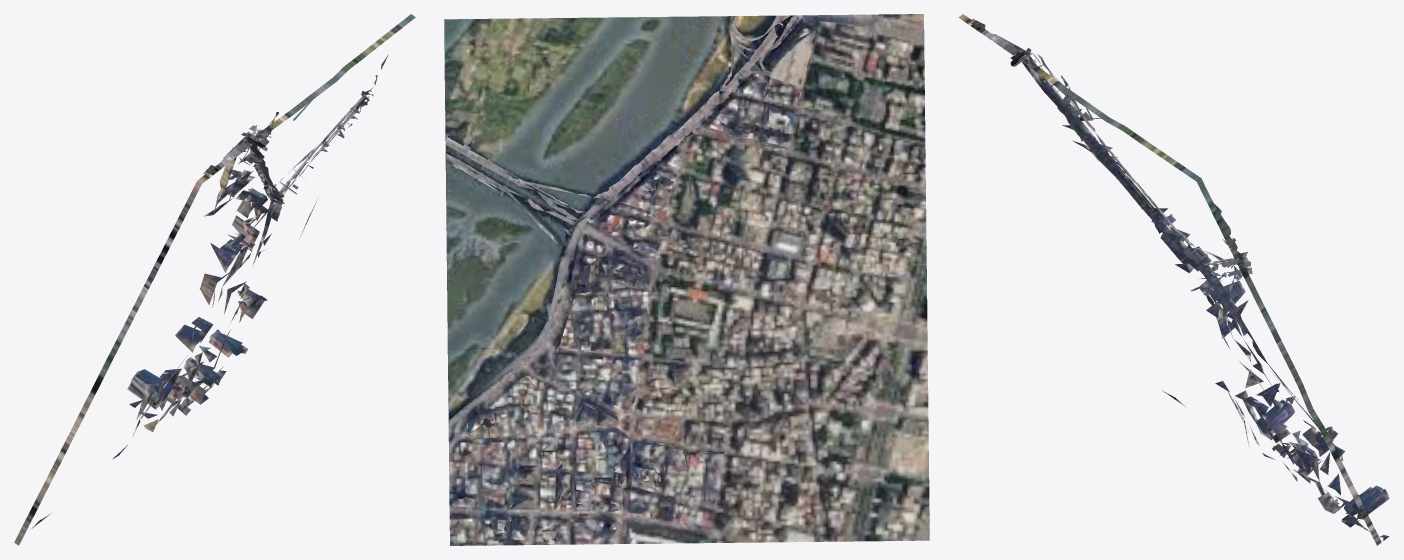
3 views of the same model, side by side, from view 1: azimuth 30°, elevation 25°; view 2: azimuth 150°, elevation 25°; view 3: azimuth 270°, elevation 25° (orthographic). The views are drawn at different scales.
Size of the model in its own units: 1222 by 1126 by 1050.
Materials: 1 (1 with a texture image).
